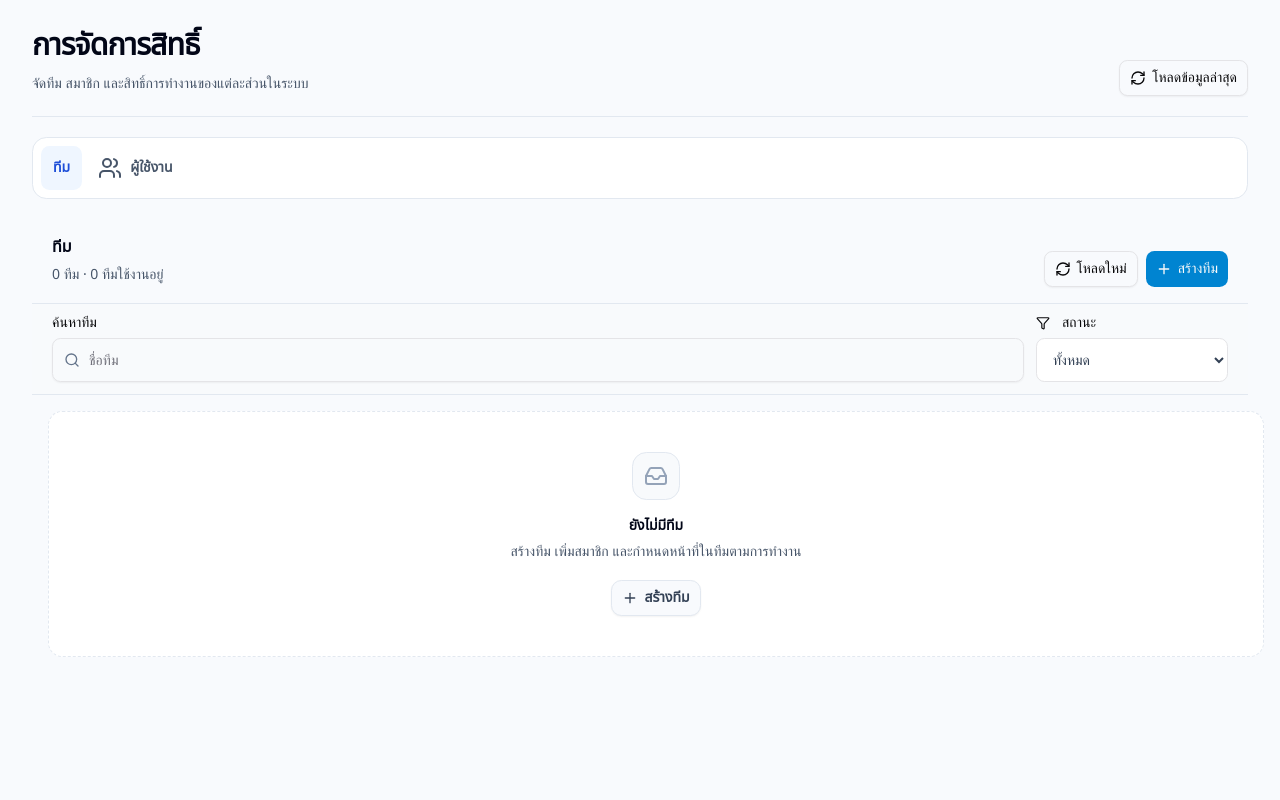
Scenario: AuthorizationAdministrationWorkspace › presents the simplified Team and User workspace without the technical registry
Check: the heading "การจัดการสิทธิ์" is shown, box x1=32 y1=23 x2=200 y2=69
Click the button "ผู้ใช้งาน" at (135, 168), box x1=86 y1=146 x2=184 y2=190
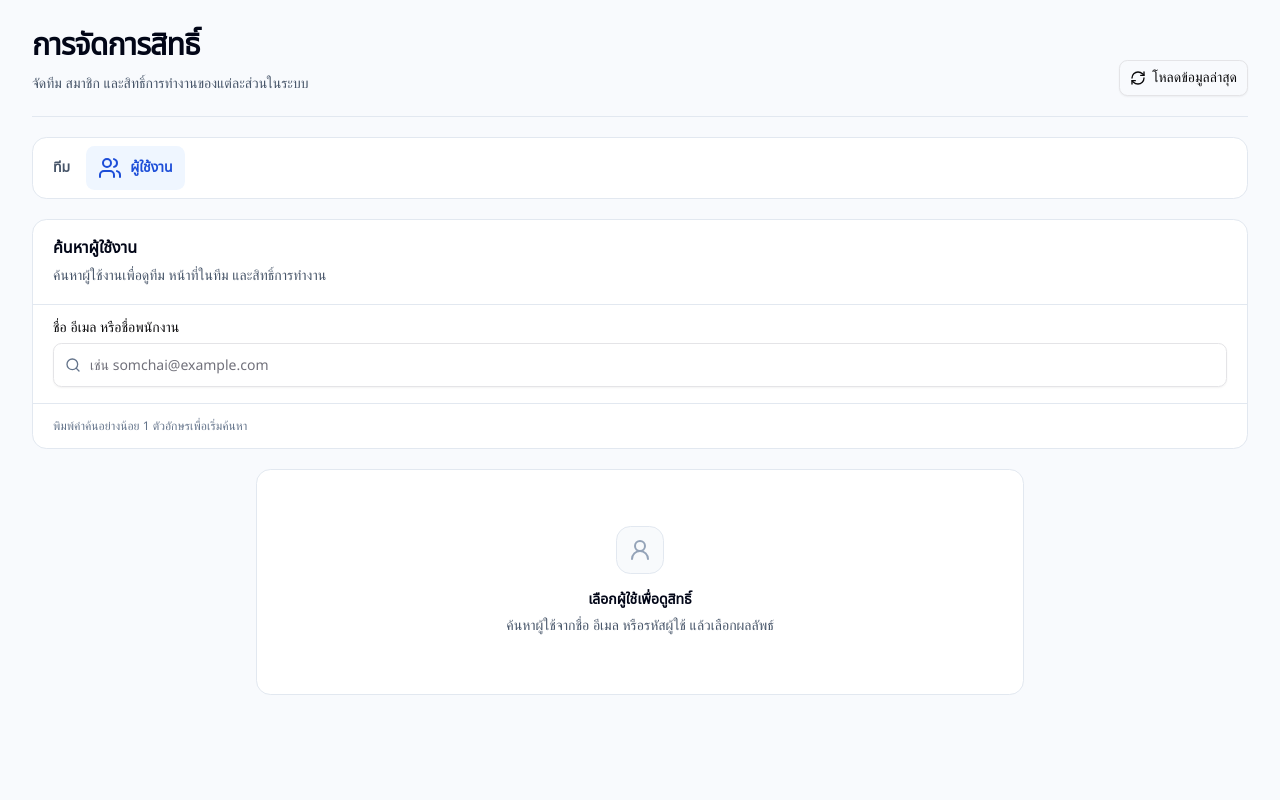
Check: the heading "ค้นหาผู้ใช้งาน" is shown, box x1=53 y1=236 x2=137 y2=260
